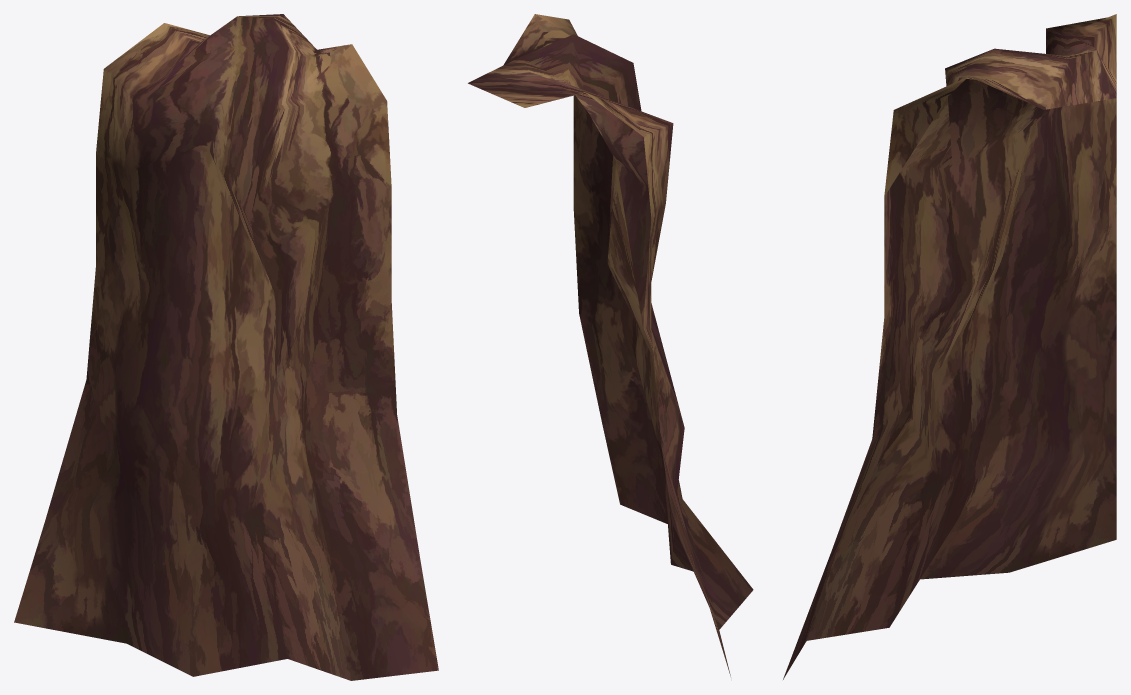
File: CaveWallDiagonal.obj
3 renders of one model, left to right at view 1: azimuth 30°, elevation 25°; view 2: azimuth 150°, elevation 25°; view 3: azimuth 270°, elevation 25°, orthographic. The views are drawn at different scales.
Parts seen in each view (by area): view 1: CaveWallDiagonal; view 2: CaveWallDiagonal; view 3: CaveWallDiagonal.
Boxes of the visible parts, box(x1,y1,x2,y2) form: CaveWallDiagonal: box(14, 14, 438, 680); CaveWallDiagonal: box(468, 14, 753, 676); CaveWallDiagonal: box(783, 14, 1116, 679).
Bounding box in the file's own units: 260 × 519 × 260.
1 material, 1 textured.
